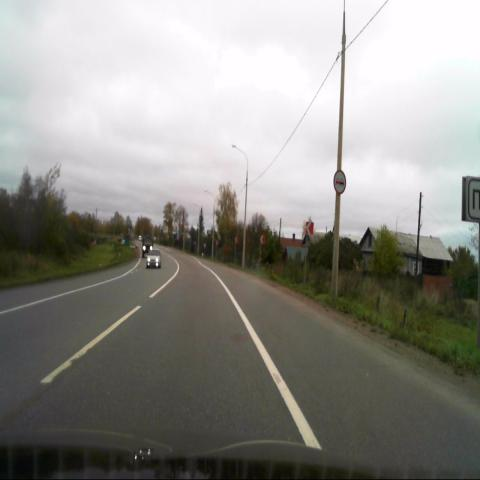3_20: (334, 168, 346, 194)
